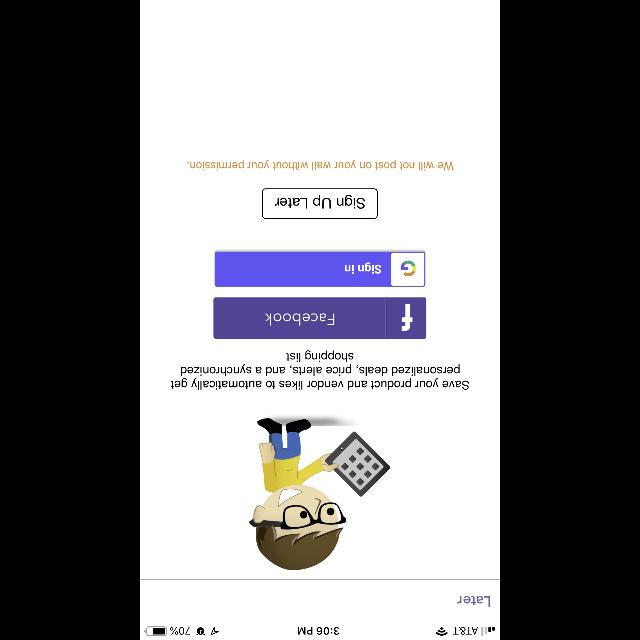image: (249, 418, 391, 570)
text: (171, 350, 469, 390), (187, 160, 453, 170), (456, 596, 489, 606)
textbutton: (214, 298, 426, 338), (215, 252, 425, 286), (262, 188, 378, 220)
uppertaskbar: (140, 626, 500, 640)
